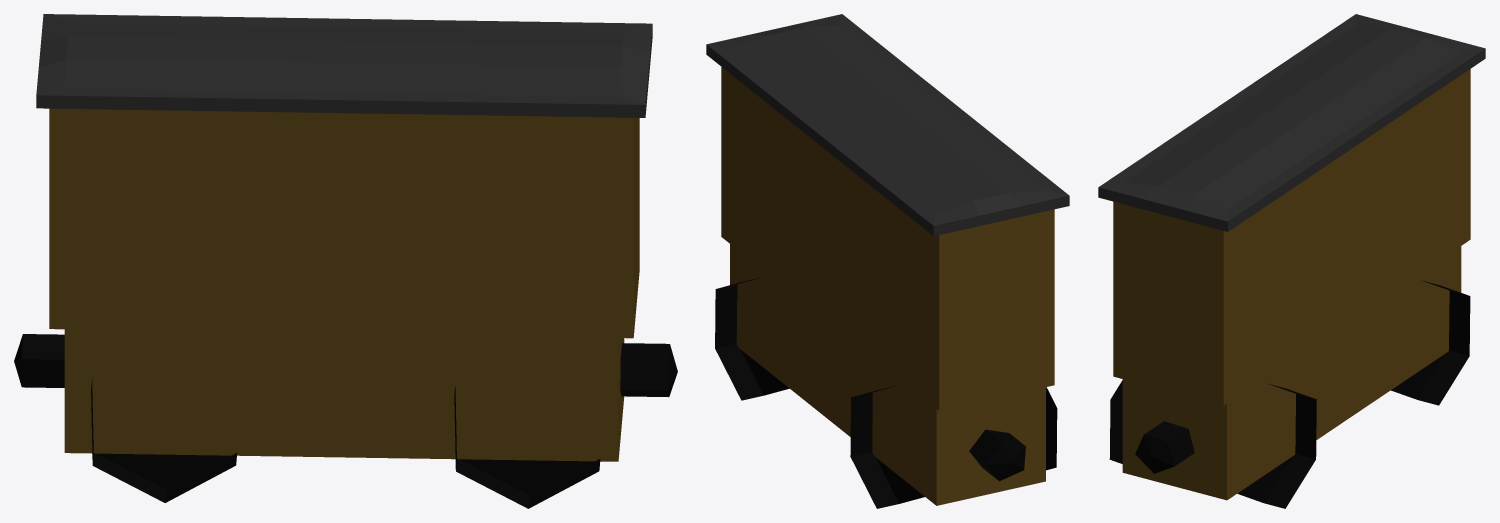
Rendered from wagon.fbx.
The picture shows the model from 3 angles, left to right: view 1: azimuth 30°, elevation 25°; view 2: azimuth 150°, elevation 25°; view 3: azimuth 270°, elevation 25°; orthographic projection. The views are drawn at different scales.
Parts seen in each view (by area): view 1: Passagier Trein; view 2: Passagier Trein; view 3: Passagier Trein.
Part boxes in pixels (bbox=[...]): Passagier Trein: bbox=[14, 14, 677, 508]; Passagier Trein: bbox=[706, 14, 1069, 508]; Passagier Trein: bbox=[1098, 14, 1485, 508].
Size of the model in its own units: 17.86 by 12.99 by 14.07.
